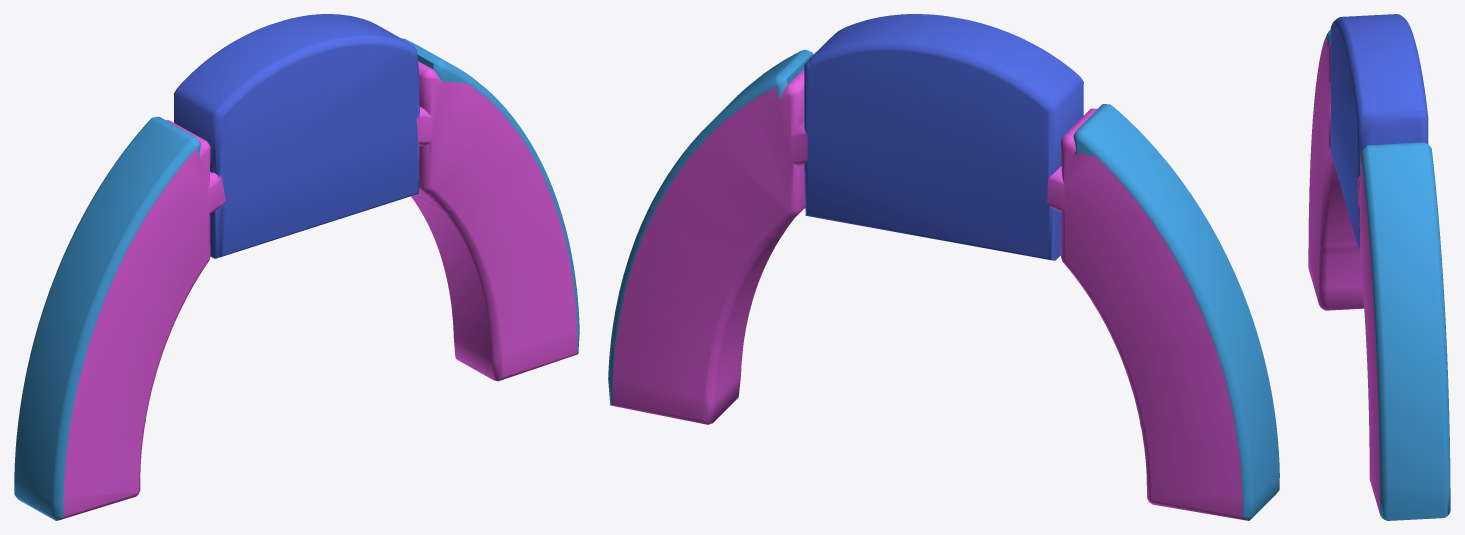
File: FinishLine.fbx
The picture shows the model from 3 angles, left to right: view 1: azimuth 30°, elevation 25°; view 2: azimuth 150°, elevation 25°; view 3: azimuth 270°, elevation 25°; orthographic projection. The views are drawn at different scales.
Parts seen in each view (by area): view 1: Project2D; view 2: Project2D; view 3: Project2D.
Part boxes in pixels (x1,y1,x2,y2): Project2D: (14, 14, 579, 520); Project2D: (608, 14, 1279, 520); Project2D: (1308, 14, 1450, 520).
Bounding box in the file's own units: 5.24 × 3.45 × 1.23.
